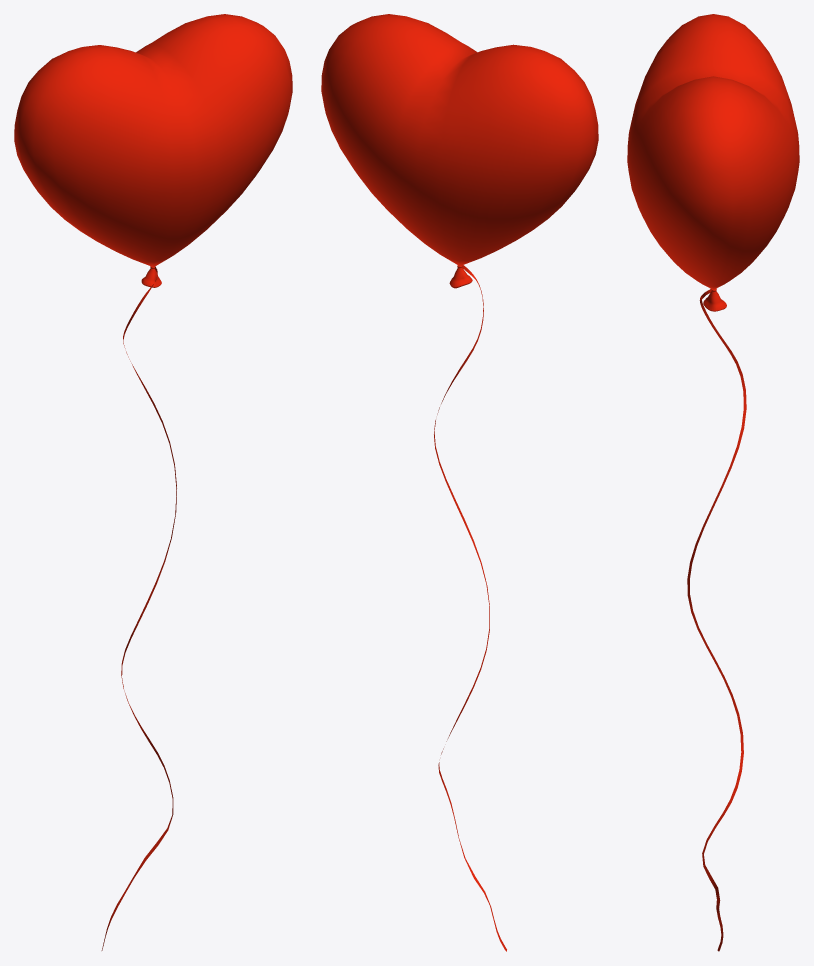
3 views of the same model, side by side, from view 1: azimuth 30°, elevation 25°; view 2: azimuth 150°, elevation 25°; view 3: azimuth 270°, elevation 25° (orthographic). The views are drawn at different scales.
Parts seen in each view (by area): view 1: Heart:Mesh; view 2: Heart:Mesh; view 3: Heart:Mesh.
Boxes of the visible parts, <box> form: Heart:Mesh: <box>14,14,292,950</box>; Heart:Mesh: <box>321,14,598,951</box>; Heart:Mesh: <box>627,14,799,951</box>.
Bounding box in the file's own units: 0.5618 × 1.82 × 0.3082.
